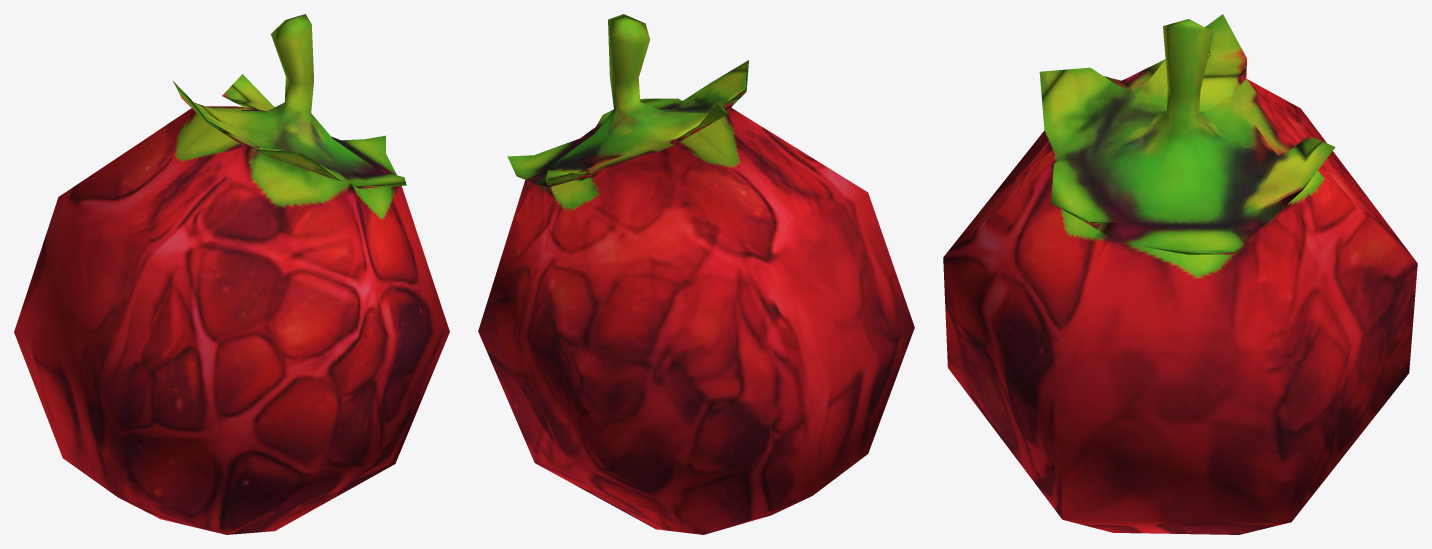
Rendered from Fruit01.glb.
3 renders of one model, left to right at view 1: azimuth 30°, elevation 25°; view 2: azimuth 150°, elevation 25°; view 3: azimuth 270°, elevation 25°, orthographic. The views are drawn at different scales.
Parts seen in each view (by area): view 1: Fruittobake1; view 2: Fruittobake1; view 3: Fruittobake1.
Boxes of the visible parts, x1=… form: Fruittobake1: x1=14, y1=14, x2=449, y2=534; Fruittobake1: x1=478, y1=14, x2=914, y2=534; Fruittobake1: x1=943, y1=14, x2=1417, y2=534.
Size of the model in its own units: 0.2791 by 0.3755 by 0.2974.
Materials: 1 (1 with a texture image).
